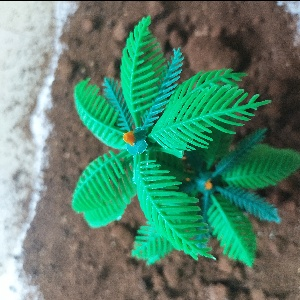plant: (64, 21, 205, 276), (172, 126, 289, 284)
